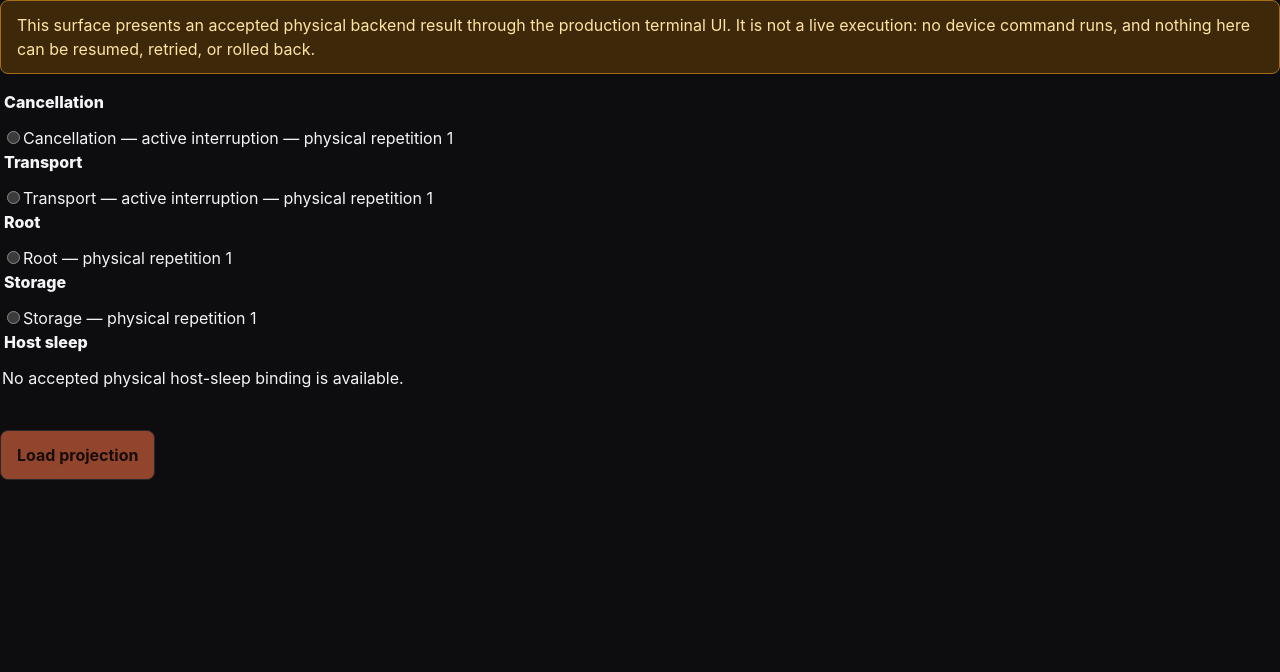
Test case: loading a candidate renders the normal terminal UI and sends only the binding handle
This screenshot has width=1280, height=672.
Click the radio button labelled "Transport — active interruption — physical repetition 1". click: (14, 197)
box: left=7, top=191, right=20, bottom=204
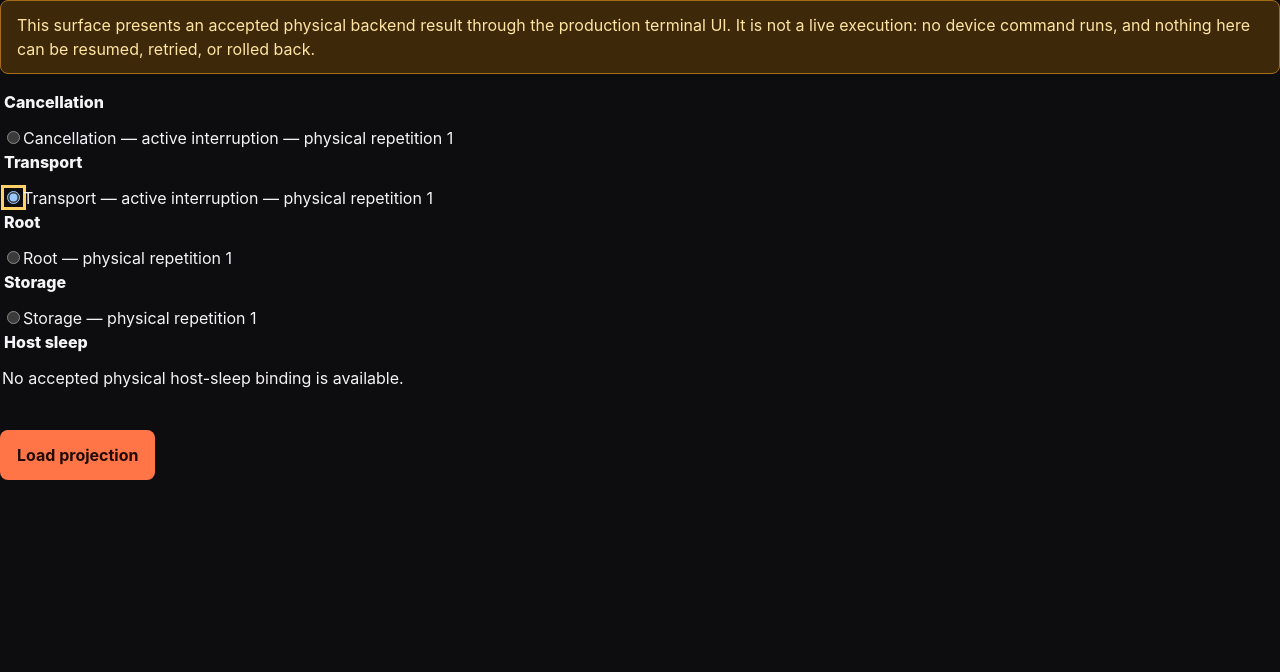
Click the button "Load projection". click: (78, 455)
box: left=0, top=430, right=156, bottom=480
(page scrolled)
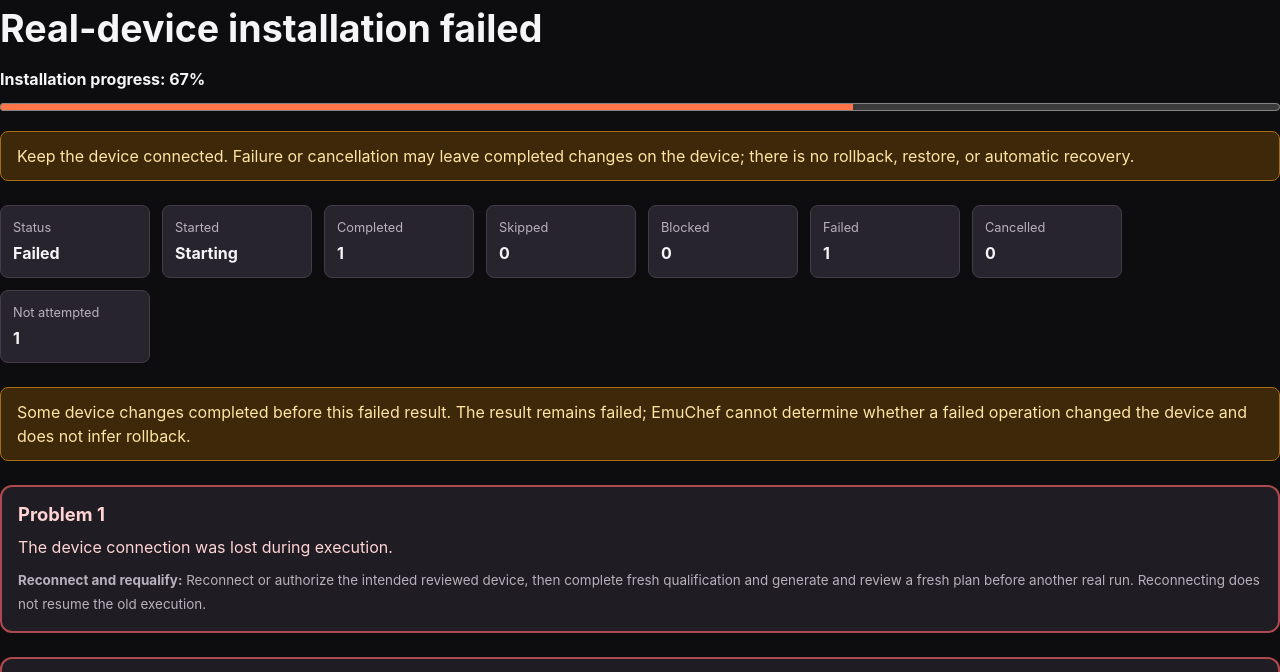
Expected: the heading "Real-device installation failed" is shown, left=0, top=6, right=542, bottom=51
Expected: the text "Not attempted" is shown, left=13, top=305, right=99, bottom=320
